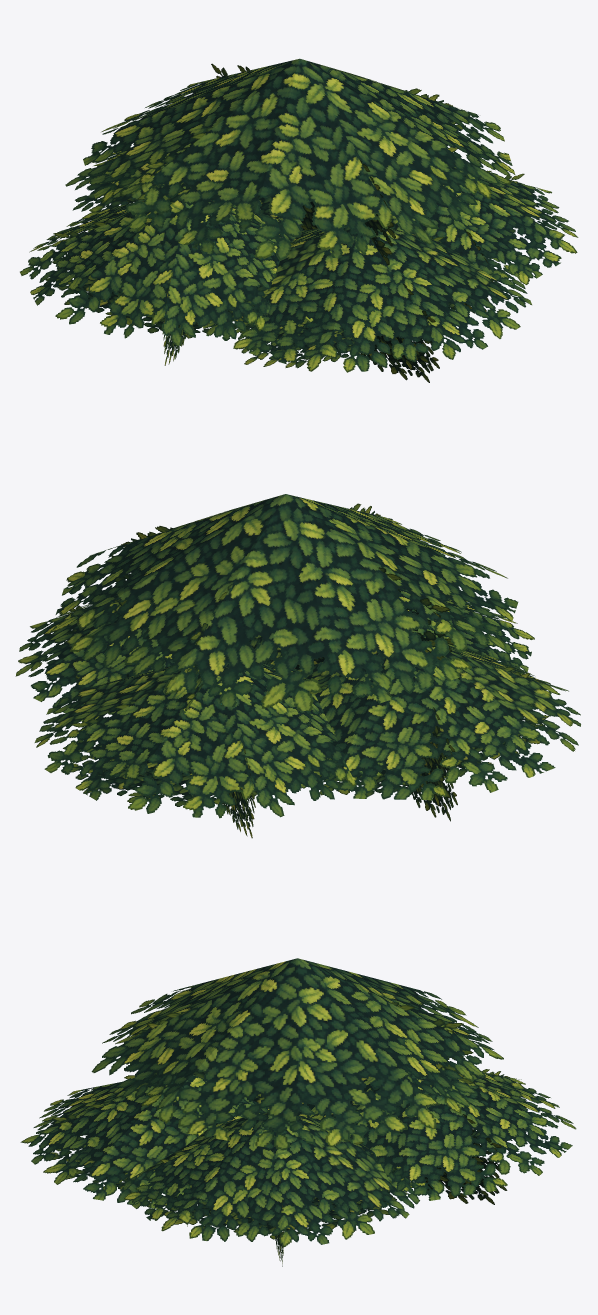
The model's file is Cespuglio_01_Compatto.obj.
3 views of the same model, one above another, from view 1: azimuth 30°, elevation 25°; view 2: azimuth 150°, elevation 25°; view 3: azimuth 270°, elevation 25° (orthographic). The views are drawn at different scales.
Visible parts, largest first — view 1: Cespuglio_01_Compatto; view 2: Cespuglio_01_Compatto; view 3: Cespuglio_01_Compatto.
Boxes of the visible parts, box(x1,y1,x2,y2) form: Cespuglio_01_Compatto: box(20, 58, 578, 382); Cespuglio_01_Compatto: box(15, 494, 580, 838); Cespuglio_01_Compatto: box(20, 958, 576, 1266).
Bounding box in the file's own units: 1.95 × 0.934 × 1.99.
